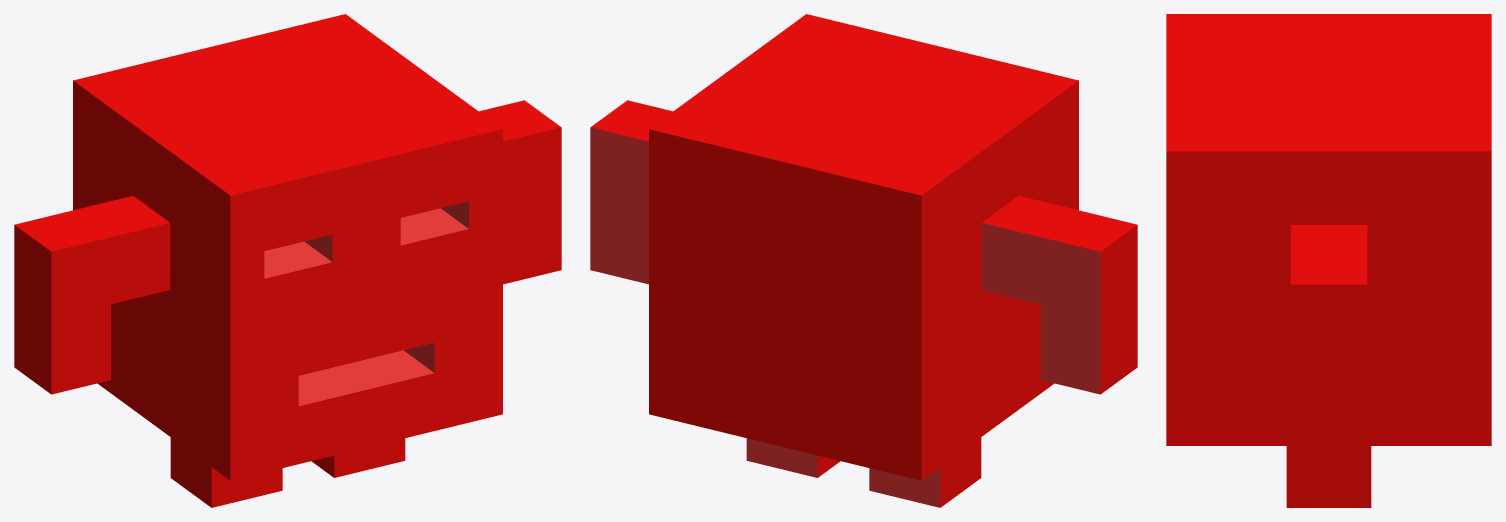
Rendered from Enemigo.fbx.
3 renders of one model, left to right at view 1: azimuth 30°, elevation 25°; view 2: azimuth 150°, elevation 25°; view 3: azimuth 270°, elevation 25°, orthographic. The views are drawn at different scales.
Parts seen in each view (by area): view 1: Enemigo; view 2: Enemigo; view 3: Enemigo.
Boxes of the visible parts, bbox=[...] form: Enemigo: bbox=[14, 14, 561, 507]; Enemigo: bbox=[590, 14, 1137, 507]; Enemigo: bbox=[1166, 14, 1491, 507].
Bounding box in the file's own units: 187 × 128 × 100.
Materials: 1 (1 with a texture image).
